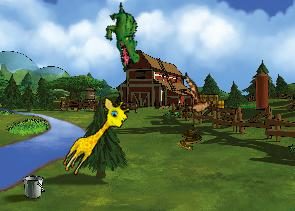crocodile: (93, 1, 155, 70)
eagle: (168, 72, 226, 126)
giraffe: (58, 92, 134, 183)
